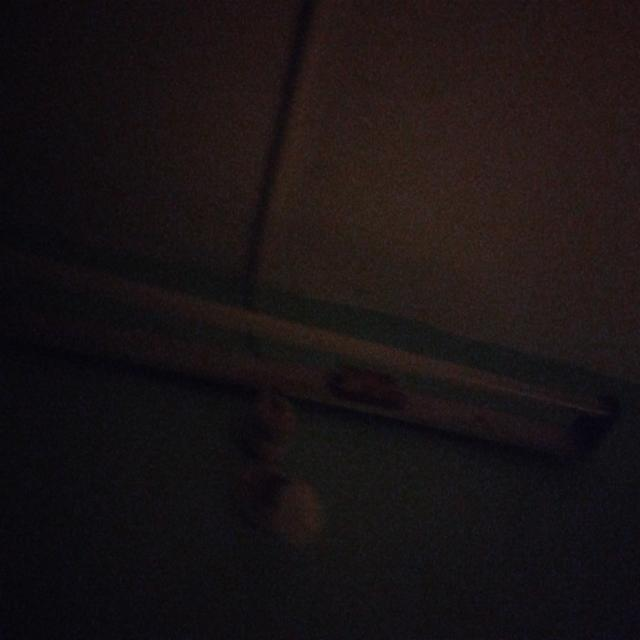tubelight_off: (0, 245, 629, 473)
